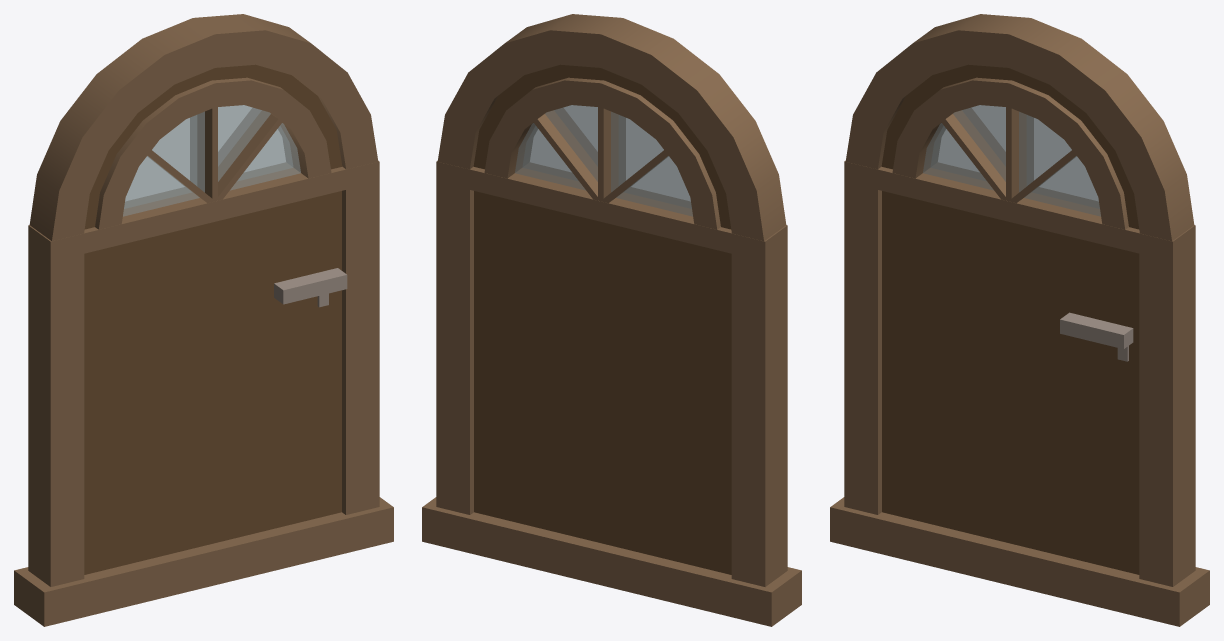
Rendered from kapı 2.2.1.fbx.
The picture shows the model from 3 angles, left to right: view 1: azimuth 30°, elevation 25°; view 2: azimuth 150°, elevation 25°; view 3: azimuth 330°, elevation 25°; orthographic projection.
Visible parts, largest first — view 1: pCube26; view 2: pCube26; view 3: pCube26.
Part boxes in pixels (x1,y1,x2,y2): pCube26: (14, 14, 393, 626); pCube26: (422, 14, 801, 626); pCube26: (830, 14, 1209, 626).
Bounding box in the file's own units: 967 × 1446 × 167.
